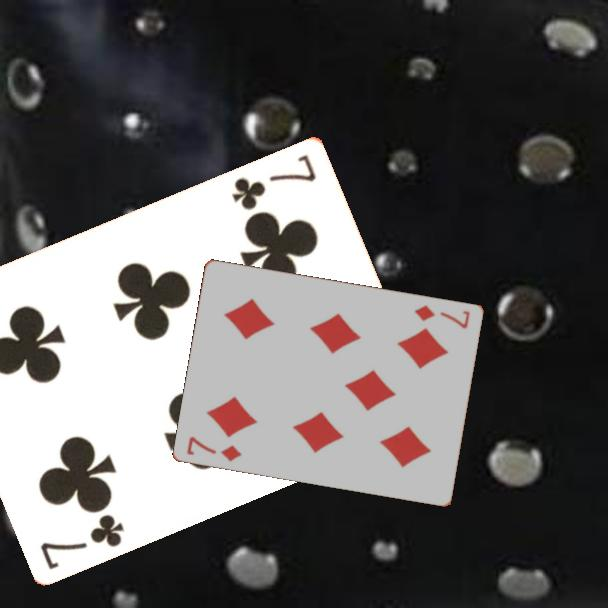c07: (228, 150, 319, 213), (37, 510, 128, 572)
d07: (184, 433, 245, 464), (412, 301, 473, 331)
